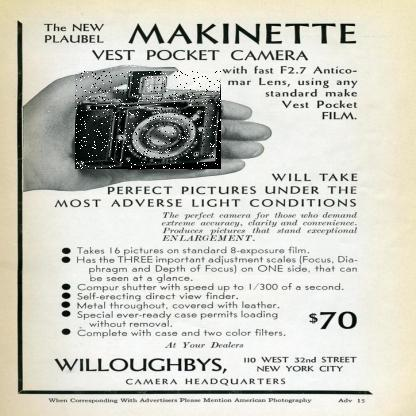Camera: (76, 72, 223, 171)
